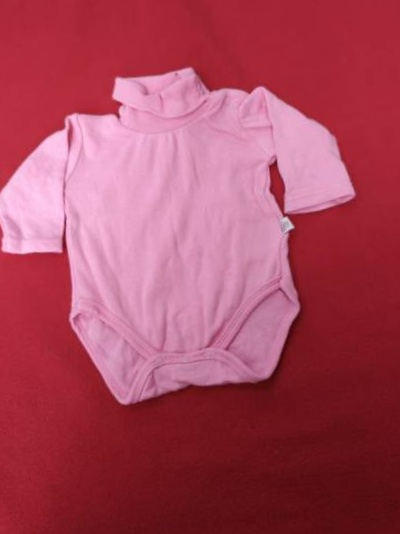Body: (0, 28, 369, 446)
